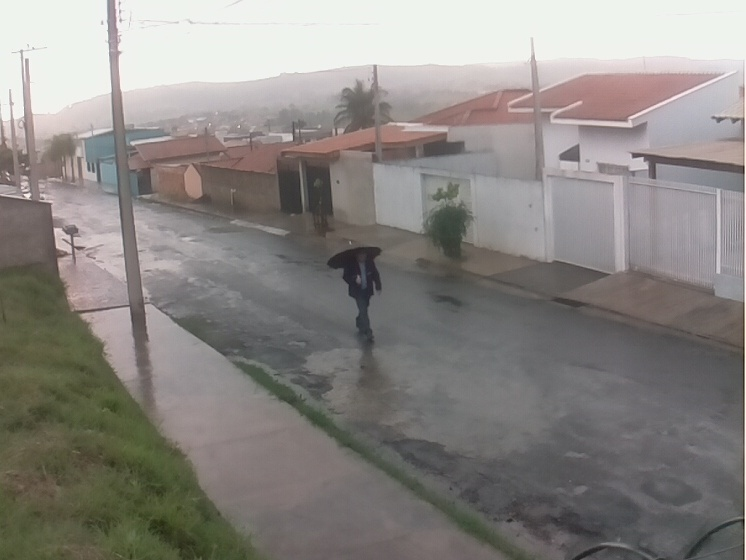person: (342, 250, 383, 341)
